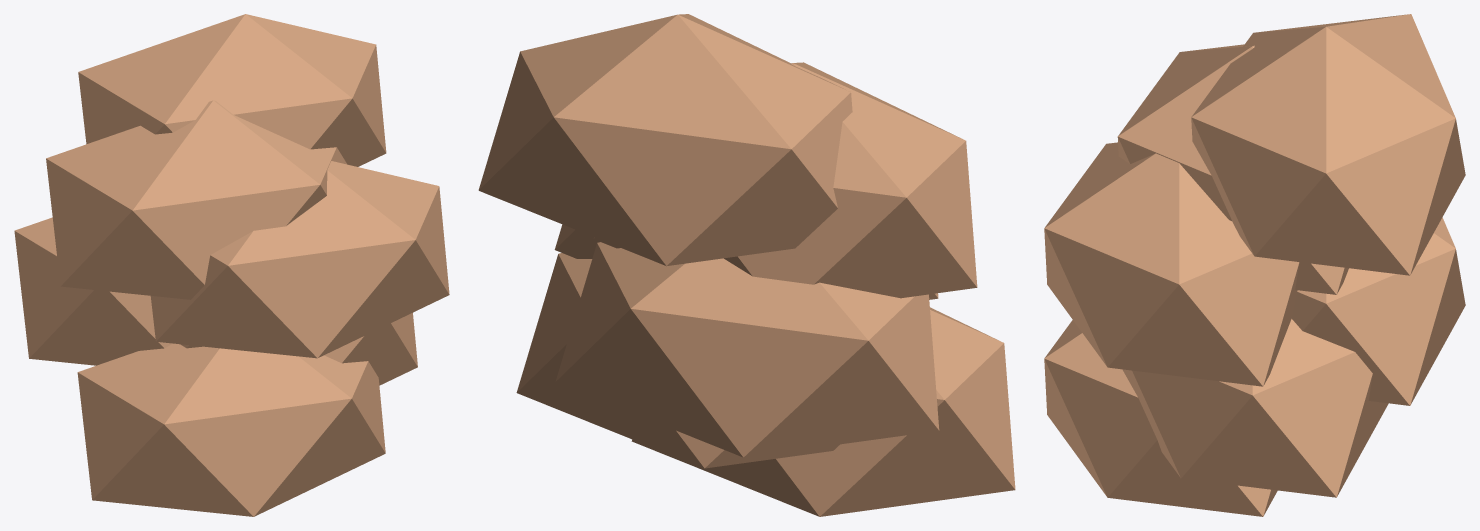
Rendered from item_007_clay_l.glb.
3 views of the same model, side by side, from view 1: azimuth 30°, elevation 25°; view 2: azimuth 150°, elevation 25°; view 3: azimuth 270°, elevation 25° (orthographic). The views are drawn at different scales.
Parts seen in each view (by area): view 1: item_007_clay_l; view 2: item_007_clay_l; view 3: item_007_clay_l.
Boxes of the visible parts, bbox=[...] form: item_007_clay_l: bbox=[14, 14, 449, 516]; item_007_clay_l: bbox=[478, 14, 1015, 516]; item_007_clay_l: bbox=[1044, 14, 1465, 516].
Size of the model in its own units: 0.3811 by 0.4472 by 0.3441.
